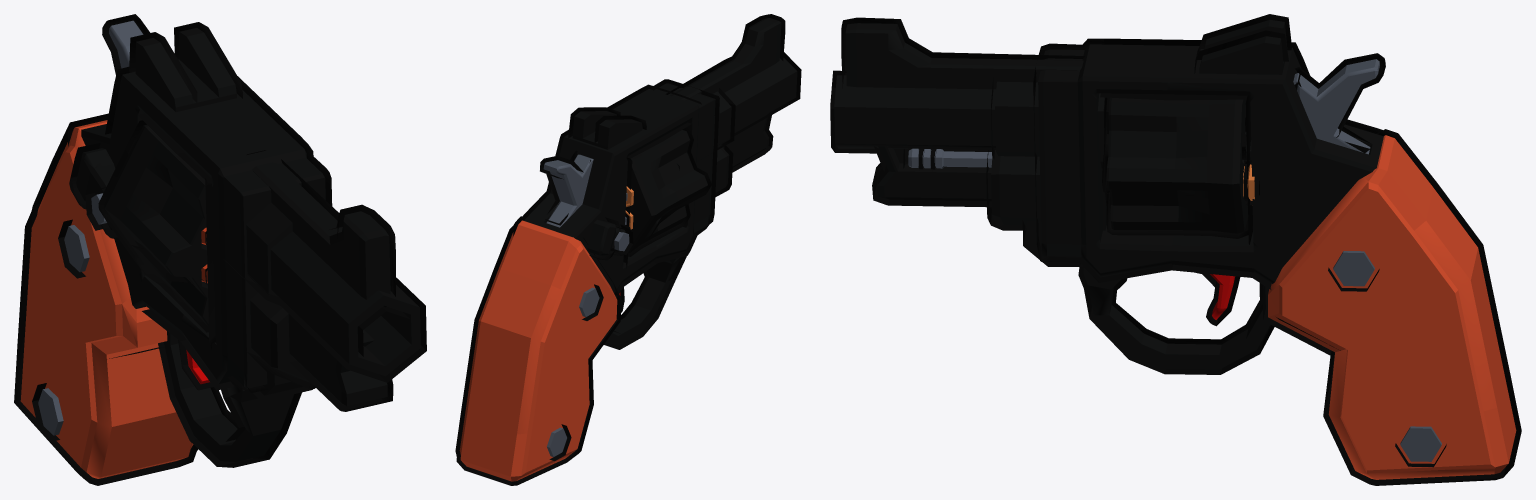
Rendered from gun.glb.
3 renders of one model, left to right at view 1: azimuth 30°, elevation 25°; view 2: azimuth 150°, elevation 25°; view 3: azimuth 270°, elevation 25°, orthographic. The views are drawn at different scales.
Parts seen in each view (by area): view 1: plat; view 2: plat; view 3: plat.
Boxes of the visible parts, bbox=[...] form: plat: bbox=[14, 14, 426, 485]; plat: bbox=[455, 14, 801, 485]; plat: bbox=[830, 14, 1521, 485].
Size of the model in its own units: 0.0864 by 0.2144 by 0.31.
2 materials, 2 textured.
